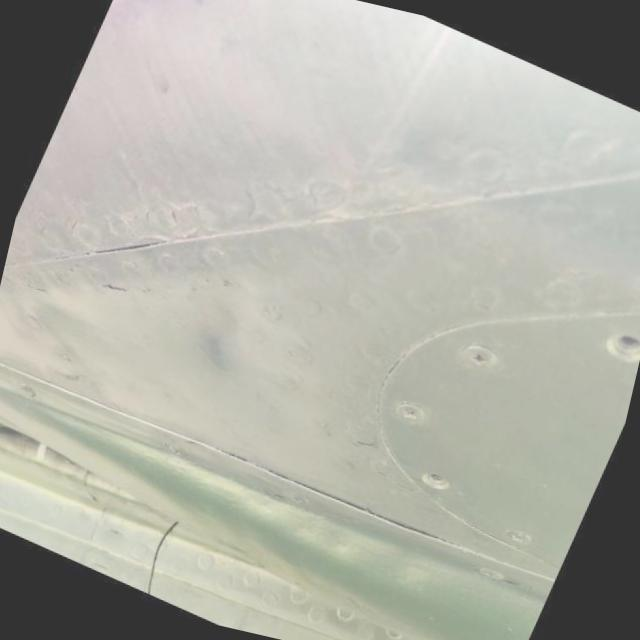Missing Fastener: (602, 329, 640, 364), (417, 469, 451, 492)
dent: (156, 264, 297, 405)
